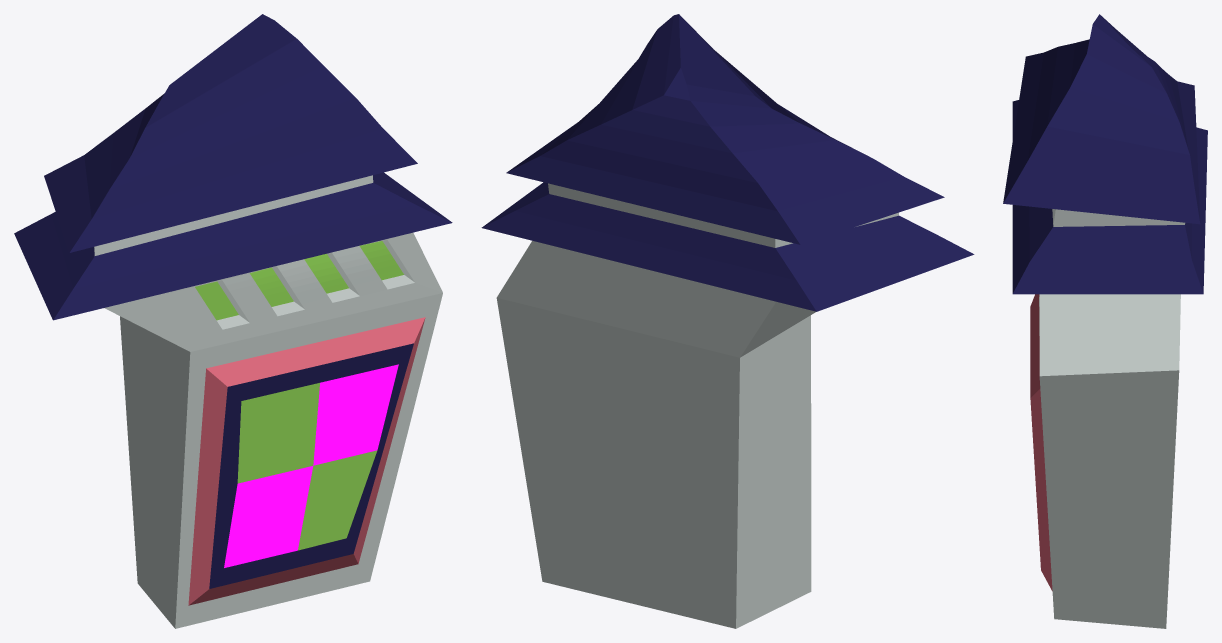
Rendered from buildingroof.fbx.
3 views of the same model, side by side, from view 1: azimuth 30°, elevation 25°; view 2: azimuth 150°, elevation 25°; view 3: azimuth 270°, elevation 25° (orthographic).
Parts seen in each view (by area): view 1: Building03; view 2: Building03; view 3: Building03.
Part boxes in pixels (box(x1,y1,x2,y2)): Building03: box(14, 14, 452, 628); Building03: box(481, 14, 974, 628); Building03: box(1003, 14, 1207, 628).
Bounding box in the file's own units: 823 × 1113 × 366.
